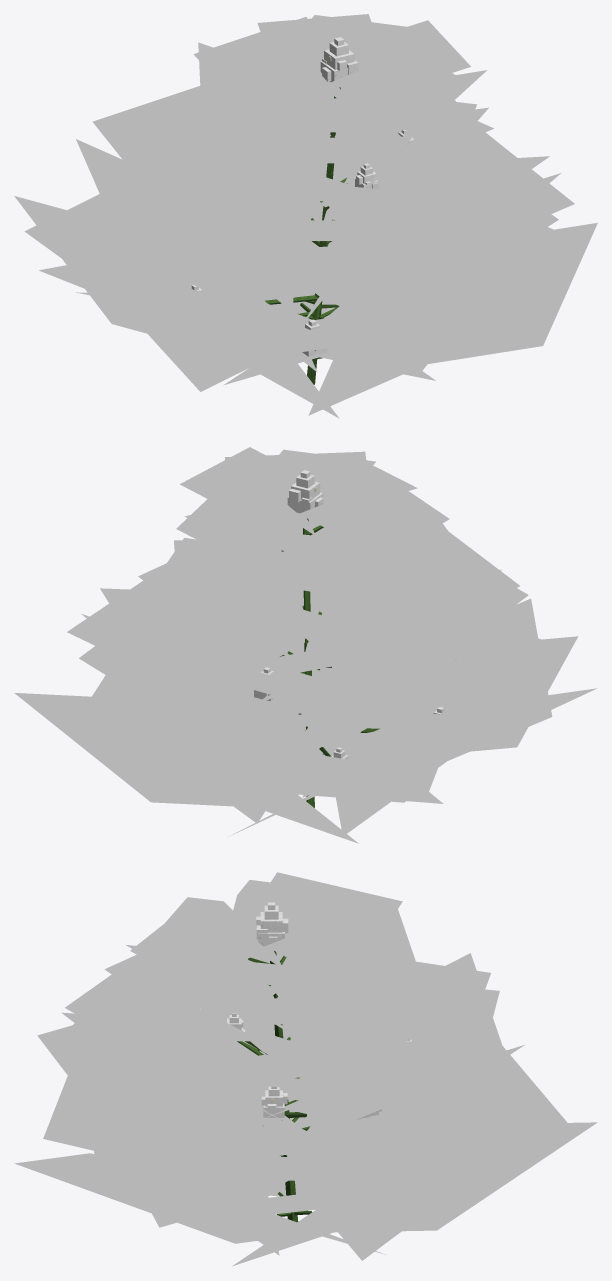
File: plant_2_3_1.obj
The picture shows the model from 3 angles, top to bottom: view 1: azimuth 30°, elevation 25°; view 2: azimuth 150°, elevation 25°; view 3: azimuth 270°, elevation 25°; orthographic projection. The views are drawn at different scales.
Visible parts, largest first — view 1: model; view 2: model; view 3: model.
Boxes of the visible parts, x1,y1,x2,y2 form: model: (14,14,597,418); model: (14,447,596,843); model: (14,872,597,1266).
Bounding box in the file's own units: 1.11 × 0.7321 × 1.13.
